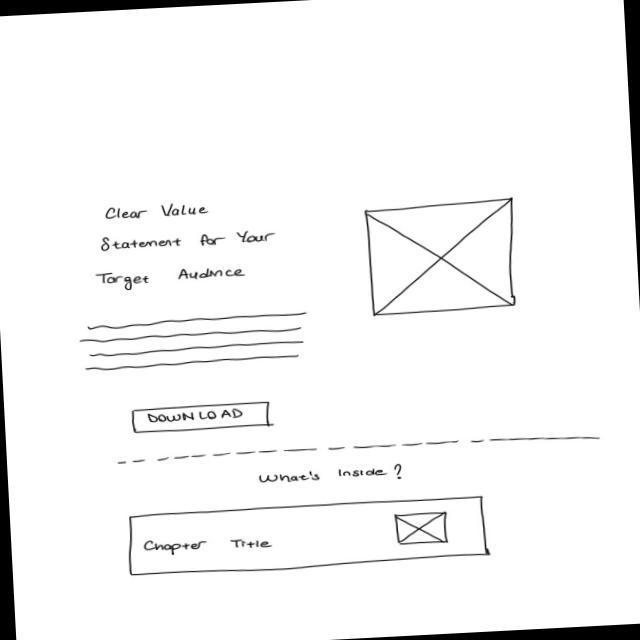button: (132, 401, 274, 437)
container: (125, 495, 492, 580)
image: (365, 197, 523, 319), (395, 512, 451, 549)
label: (99, 229, 278, 254), (258, 463, 406, 489), (105, 203, 213, 224), (144, 537, 211, 558), (176, 265, 247, 283), (97, 271, 152, 294), (231, 538, 276, 552)
text: (79, 311, 313, 375)
